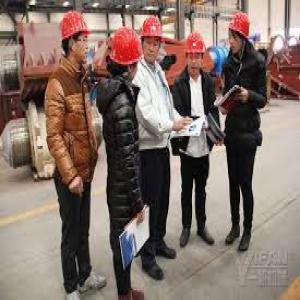red: (59, 11, 93, 68), (108, 27, 141, 85), (140, 14, 164, 63), (183, 28, 207, 77), (228, 13, 251, 54)
